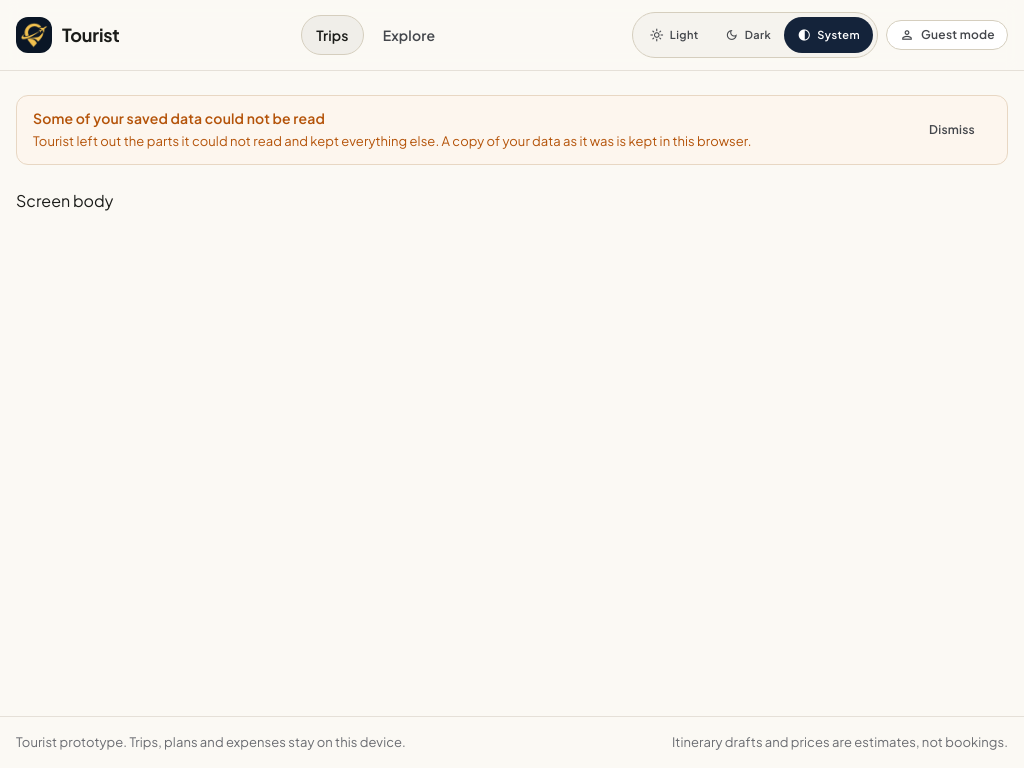
Test: StorageAlert in the app shell › says once that some saved records were left out, and stays dismissed
Expected: the message shows "kept everything else", 33,133 -> 752,149
Expected: the message shows "A copy of your data as it was is kept in this browser", 33,133 -> 752,149
Click the button "Dismiss". click: (952, 130)
box: 913,108 -> 991,152
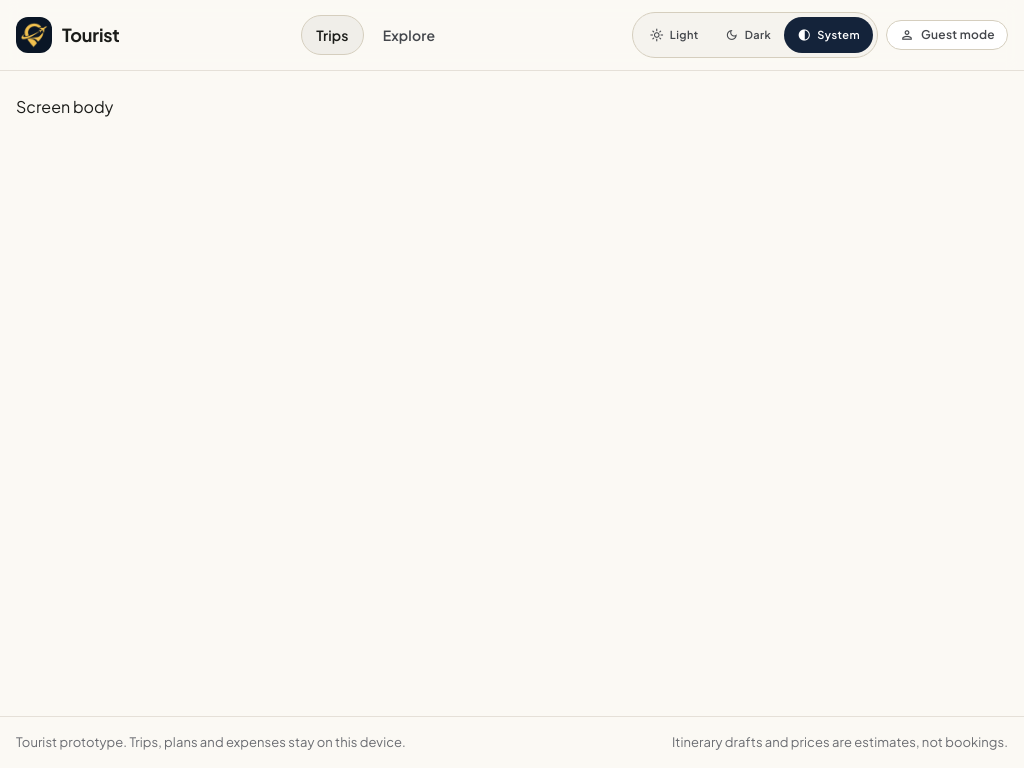
Expected: the text "Some of your saved data could not be read" is gone
